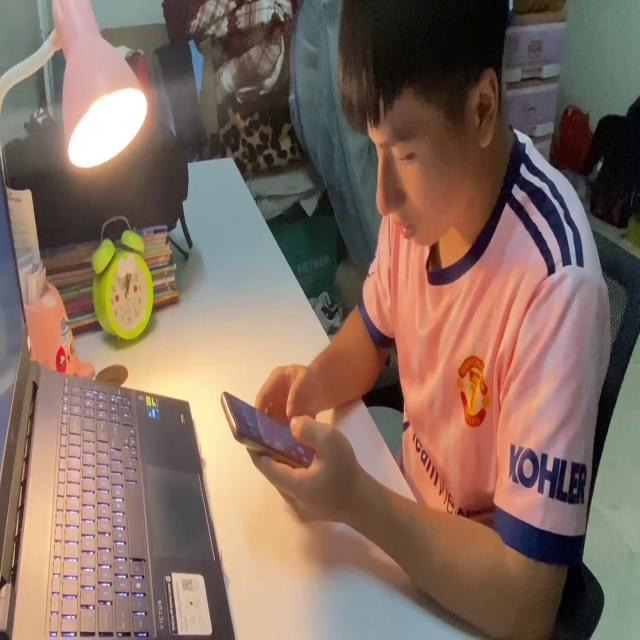laptop: (0, 130, 238, 640)
phone: (218, 382, 323, 473)
student: (248, 0, 610, 640)
